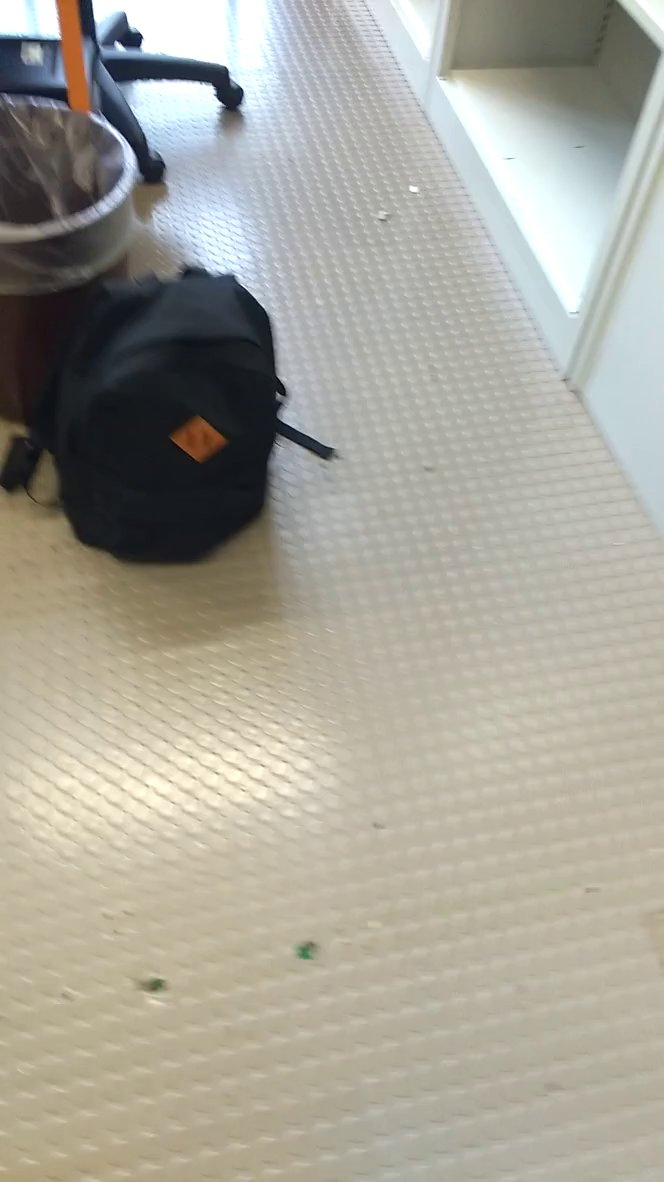bag: (3, 258, 305, 576)
bin: (1, 79, 143, 340)
